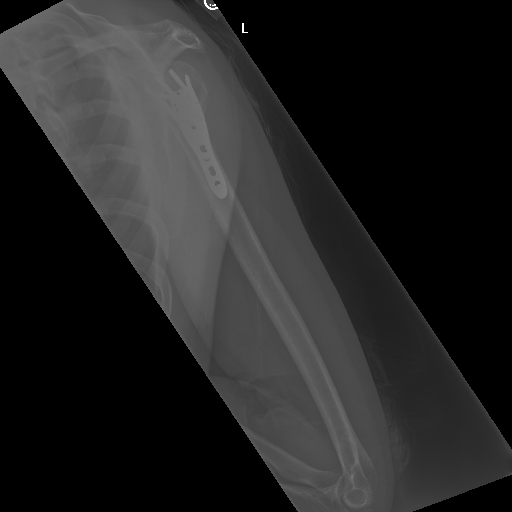implant: (143, 64, 233, 205)
